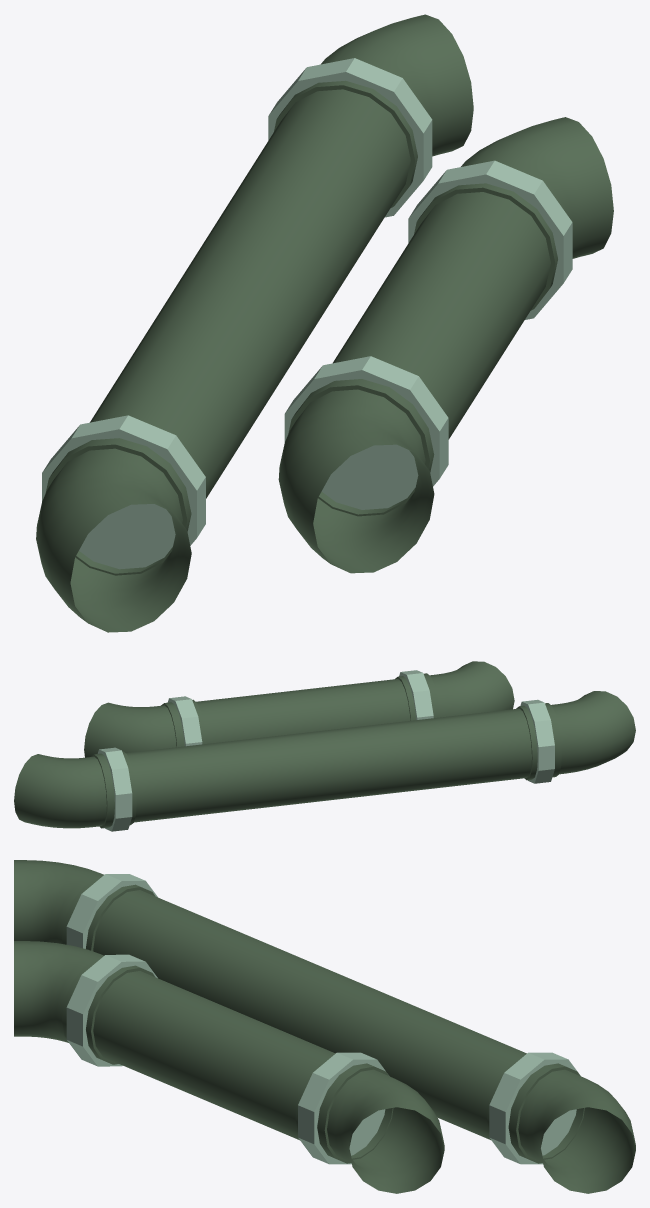
The model's file is PipeComplexLarge_A1_19.fbx.
The picture shows the model from 3 angles, top to bottom: view 1: azimuth 30°, elevation 25°; view 2: azimuth 150°, elevation 25°; view 3: azimuth 270°, elevation 25°; orthographic projection. The views are drawn at different scales.
Parts seen in each view (by area): view 1: PipeComplexLarge_A1_19.001; view 2: PipeComplexLarge_A1_19.001; view 3: PipeComplexLarge_A1_19.001.
Boxes of the visible parts, x1,y1,x2,y2 form: PipeComplexLarge_A1_19.001: (36, 14, 613, 632); PipeComplexLarge_A1_19.001: (14, 661, 635, 831); PipeComplexLarge_A1_19.001: (14, 860, 635, 1193).
Bounding box in the file's own units: 1.3 × 0.2411 × 1.3.
